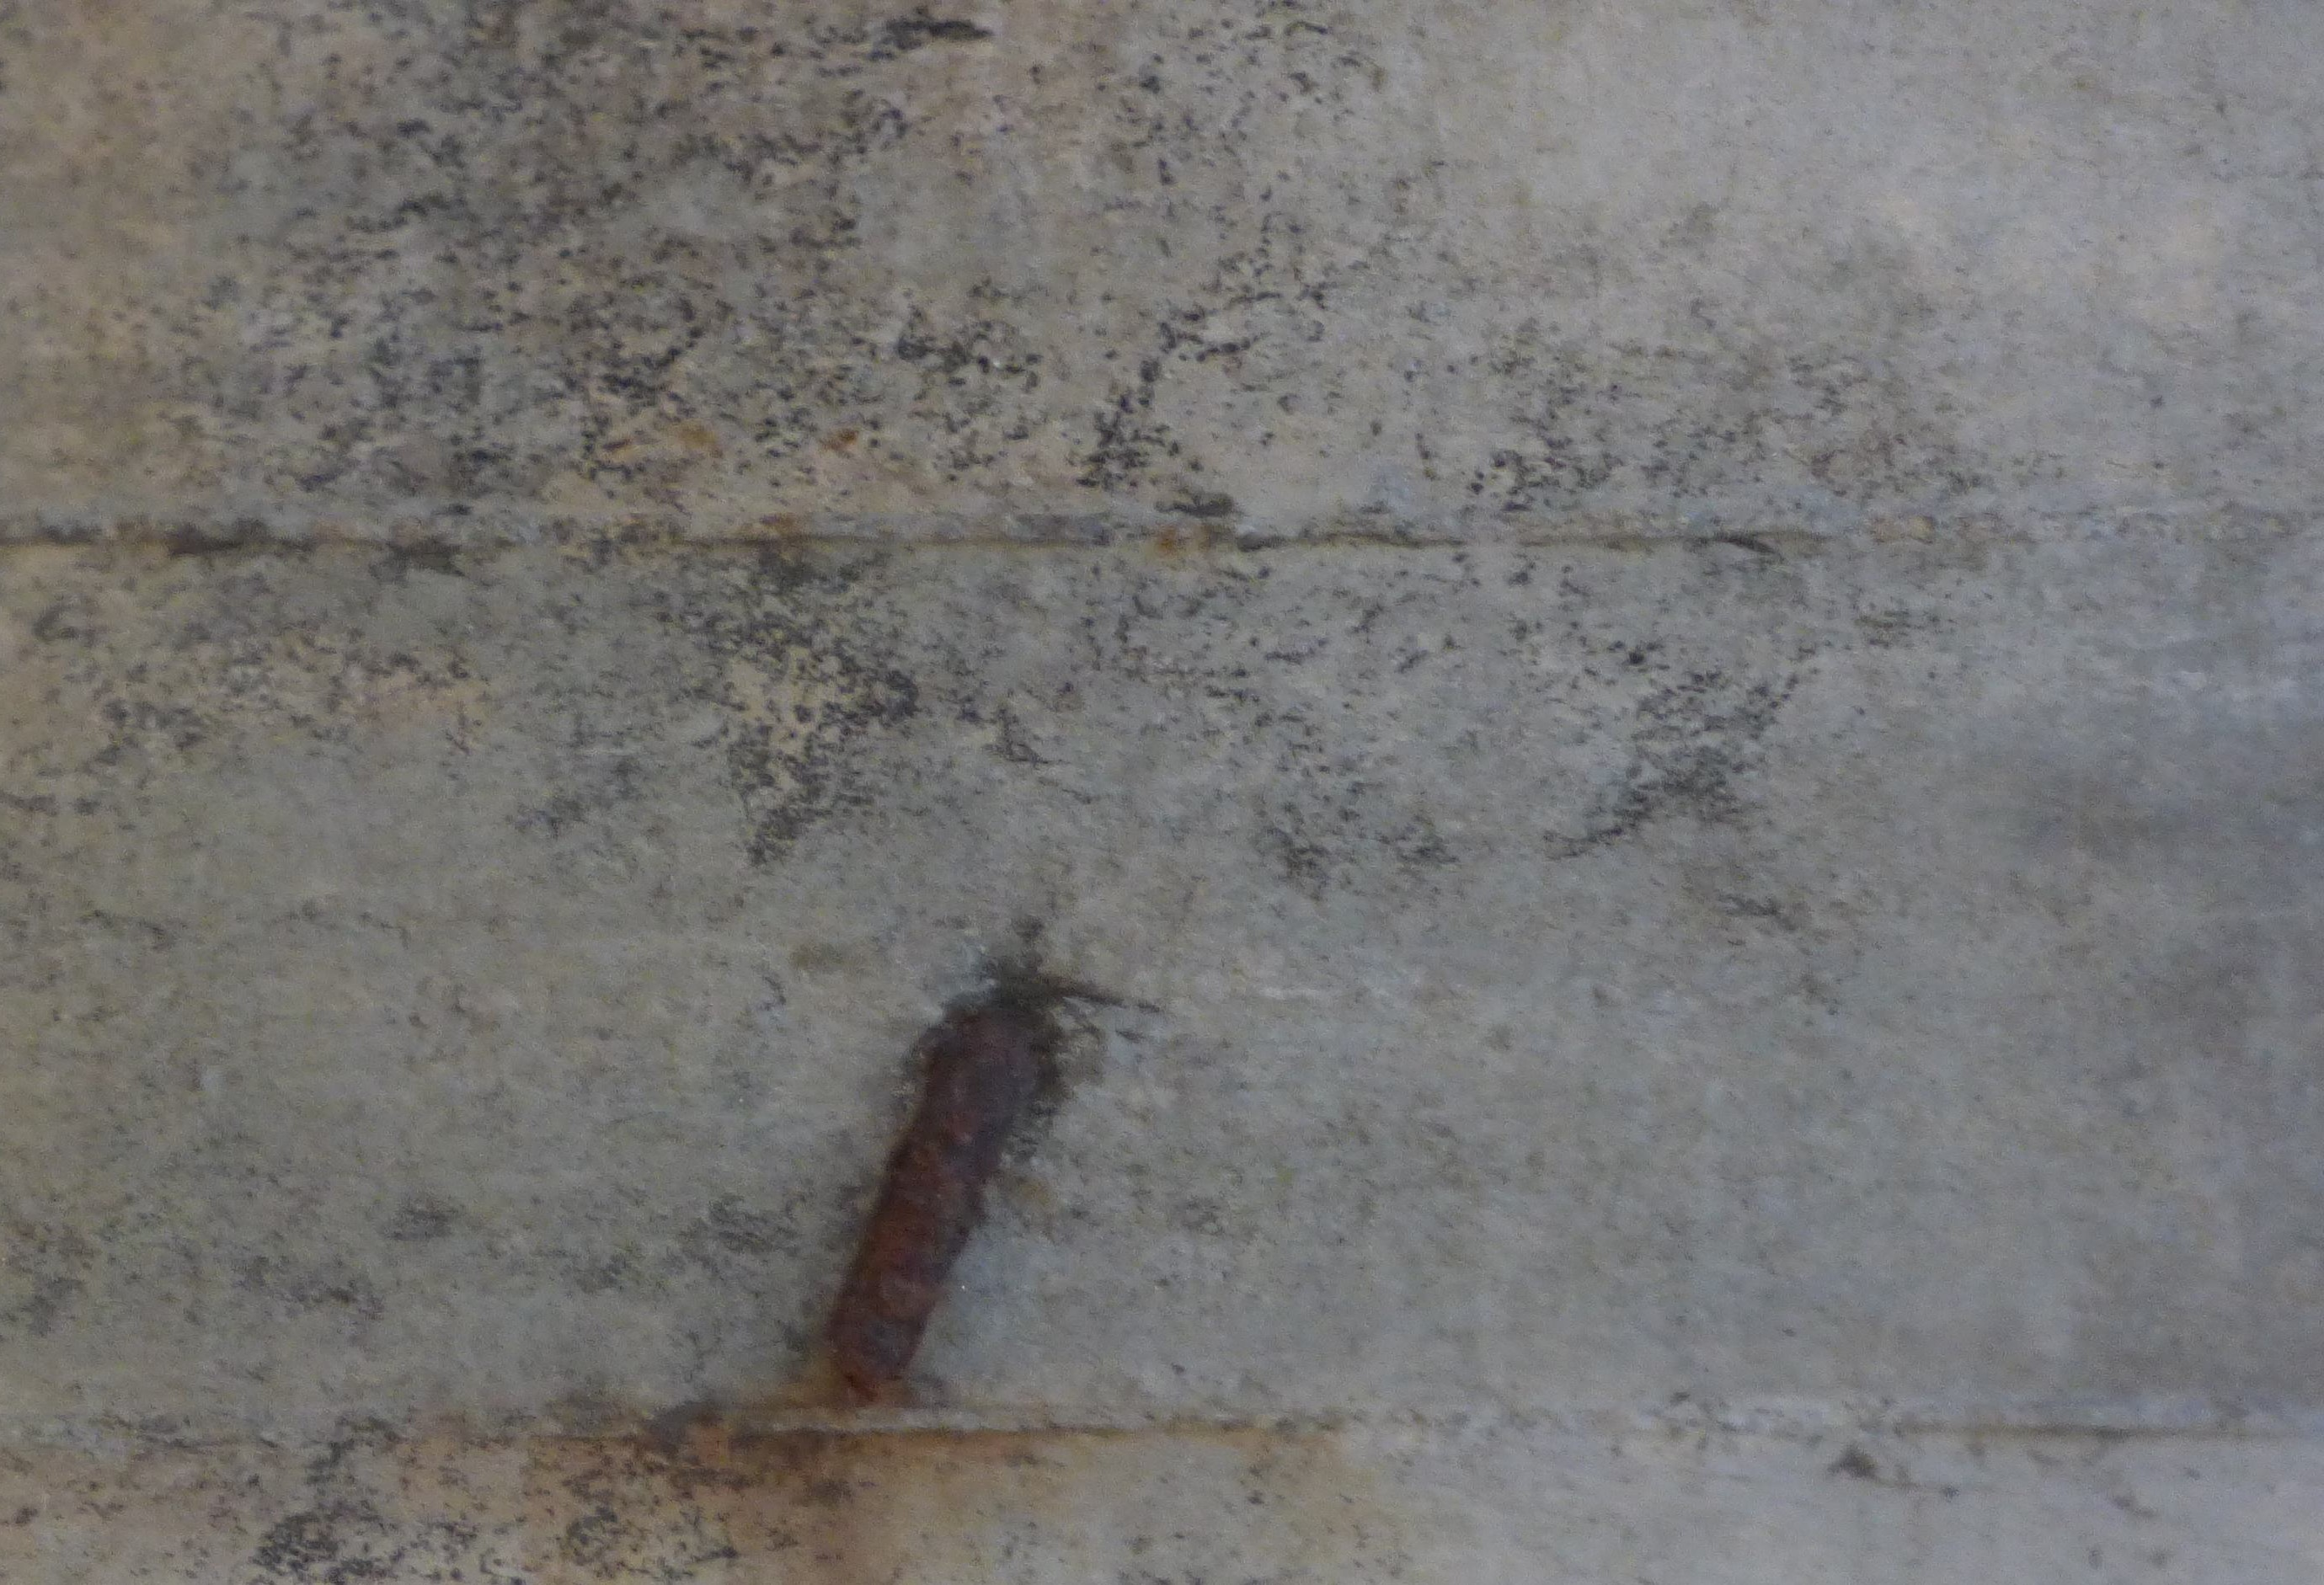Exposed reinforcement: (828, 999, 1038, 1403)
